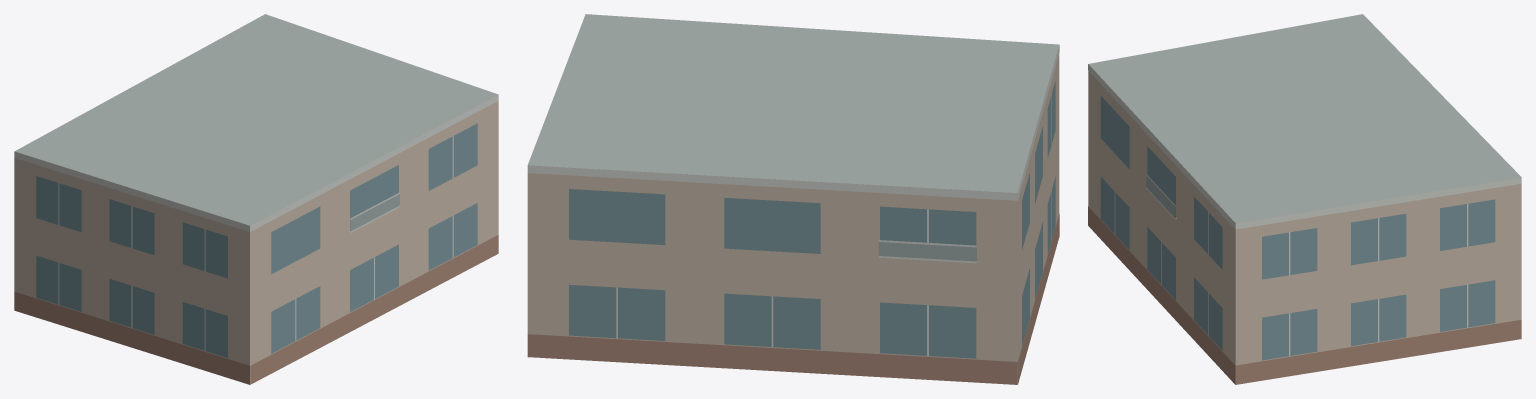
The model's file is survey-upis-32834982.glb.
The picture shows the model from 3 angles, left to right: view 1: azimuth 30°, elevation 25°; view 2: azimuth 150°, elevation 25°; view 3: azimuth 270°, elevation 25°; orthographic projection. The views are drawn at different scales.
Visible parts, largest first — view 1: survey-upis-32834982.tmp; view 2: survey-upis-32834982.tmp; view 3: survey-upis-32834982.tmp.
Boxes of the visible parts, x1,y1,x2,y2 form: survey-upis-32834982.tmp: (14, 14, 498, 384); survey-upis-32834982.tmp: (527, 14, 1059, 384); survey-upis-32834982.tmp: (1088, 14, 1521, 384).
Bounding box in the file's own units: 16.92 × 6.1 × 14.82.
